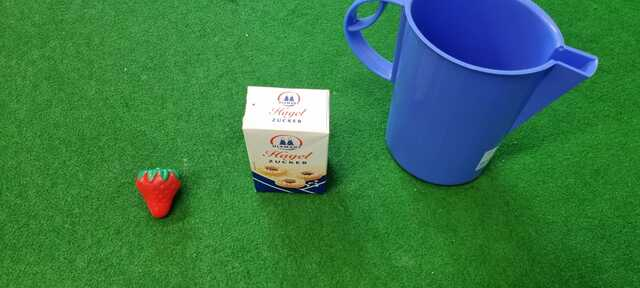004_sugar_box: (238, 84, 335, 194)
012_strawberry: (135, 166, 184, 219)
019_pitcher_base: (343, 1, 600, 190)
